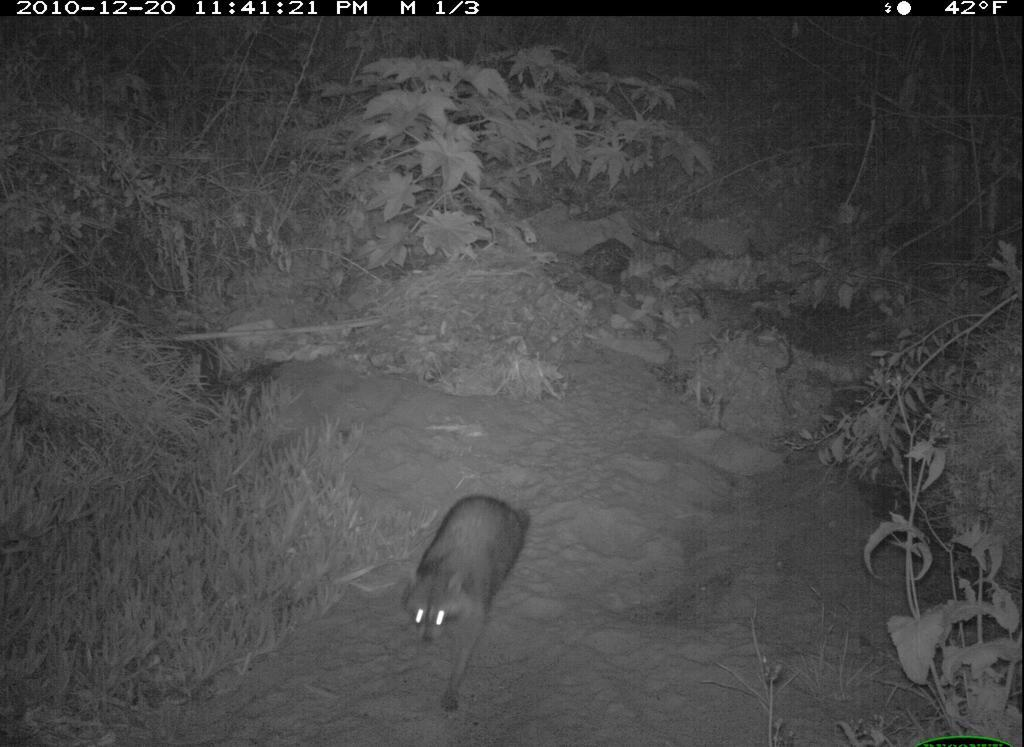raccoon: (392, 486, 547, 719)
